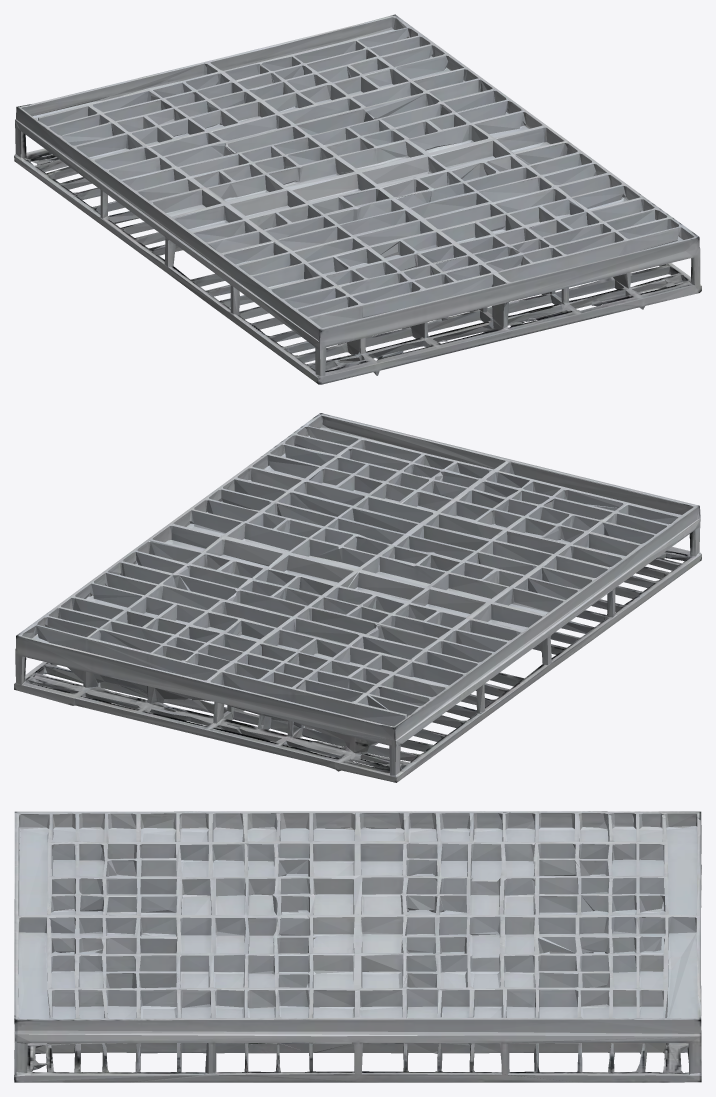
File: pallet_gray.glb
3 views of the same model, one above another, from view 1: azimuth 30°, elevation 25°; view 2: azimuth 150°, elevation 25°; view 3: azimuth 270°, elevation 25° (orthographic). The views are drawn at different scales.
Parts seen in each view (by area): view 1: geometry_0; view 2: geometry_0; view 3: geometry_0.
Boxes of the visible parts, box(x1,y1,x2,y2) form: geometry_0: box(14, 14, 701, 384); geometry_0: box(14, 413, 701, 782); geometry_0: box(14, 811, 701, 1082).
Size of the model in its own units: 0.7254 by 0.1103 by 0.9986.
Materials: 1 (1 with a texture image).
